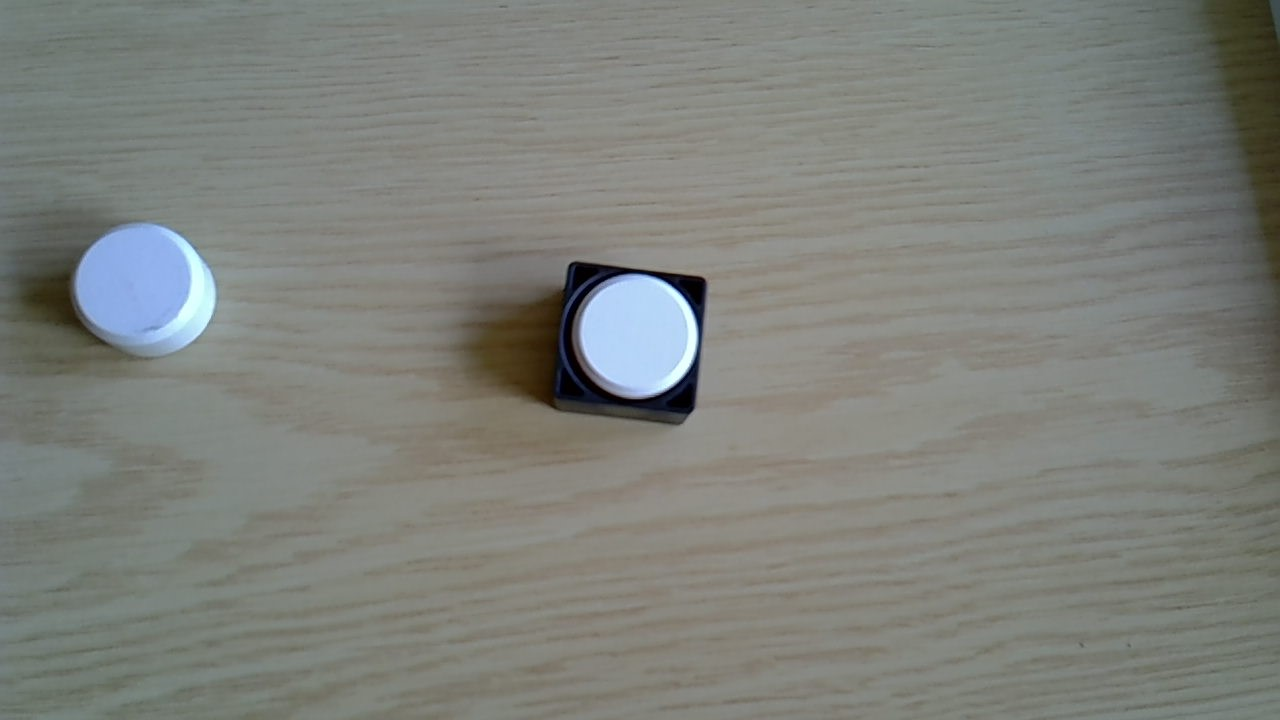Behaelter: (546, 262, 710, 426)
WerkStueck: (66, 223, 216, 359), (571, 272, 699, 400)
